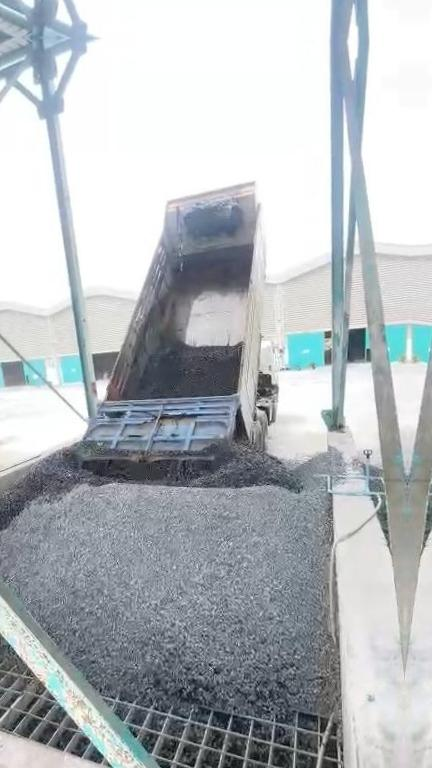gravel: (0, 422, 349, 717), (127, 341, 241, 398), (0, 598, 32, 674)
sand: (0, 439, 6, 490)
